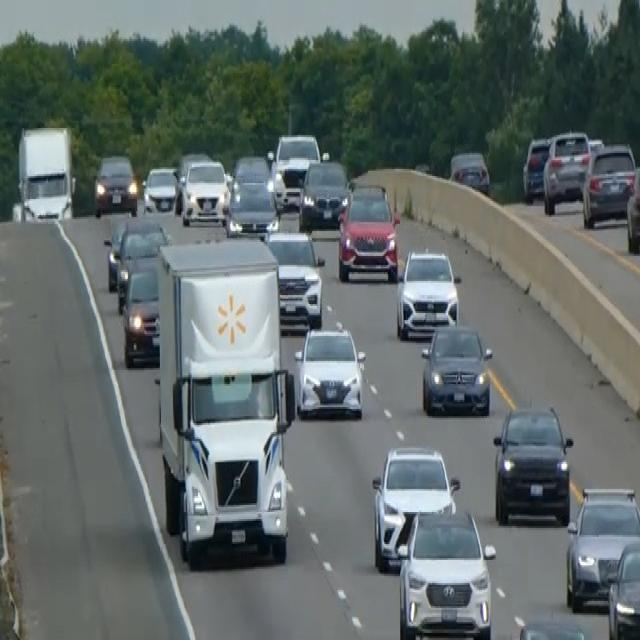car: (397, 507, 495, 638), (371, 442, 459, 570), (492, 402, 573, 526), (565, 484, 639, 612), (293, 322, 366, 419), (420, 320, 493, 416), (337, 180, 400, 282), (265, 228, 325, 330), (395, 247, 459, 340), (115, 215, 169, 309), (582, 140, 636, 228), (121, 256, 161, 368), (226, 153, 278, 236), (542, 128, 591, 213), (298, 151, 350, 229), (270, 132, 320, 212), (607, 534, 639, 638), (180, 158, 228, 226), (93, 151, 138, 217), (521, 133, 551, 203), (102, 213, 129, 290), (507, 615, 596, 638), (174, 150, 211, 204), (448, 150, 490, 196), (142, 164, 178, 214), (625, 162, 639, 252)
lorry: (154, 235, 295, 565), (15, 123, 75, 222)
